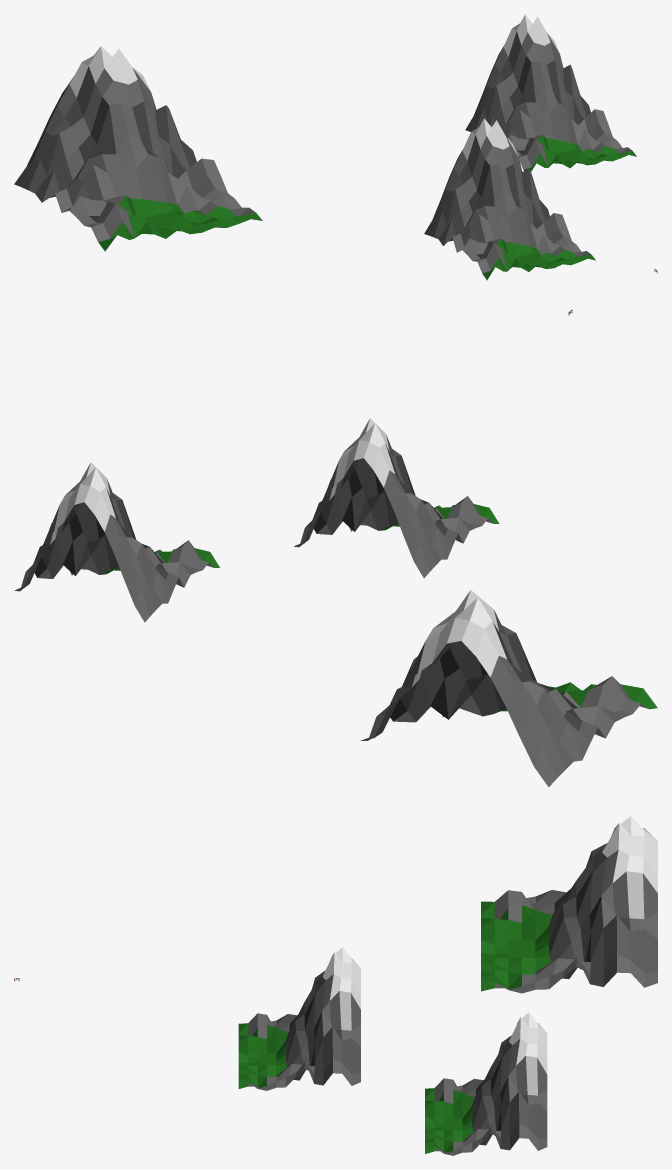
Rendered from top_right_rail.fbx.
The picture shows the model from 3 angles, top to bottom: view 1: azimuth 30°, elevation 25°; view 2: azimuth 150°, elevation 25°; view 3: azimuth 270°, elevation 25°; orthographic projection. The views are drawn at different scales.
Visible parts, largest first — view 1: Plane.002, Plane, Plane.001; view 2: Plane.002, Plane, Plane.001; view 3: Plane.002, Plane.001, Plane.
Part boxes in pixels (x1,y1,x2,y2): Plane.002: (14,46,262,251); Plane: (424,118,595,280); Plane.001: (465,14,636,171); Plane.002: (360,590,657,786); Plane: (293,418,499,578); Plane.001: (14,462,219,622); Plane.002: (481,816,657,993); Plane.001: (425,1012,547,1155); Plane: (238,947,360,1090).
Bounding box in the file's own units: 63742 × 17881 × 72793.
